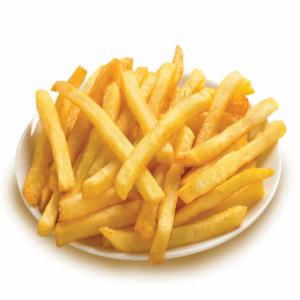fries: (18, 48, 278, 248)
